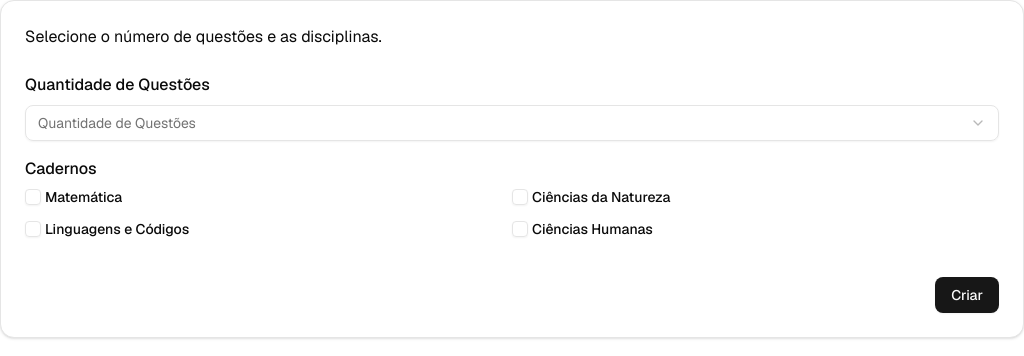
ChallengeForm › opens select options when clicked
This screenshot has width=1024, height=356.
Click the dropdown at (117, 123), box [25,105,999,141]
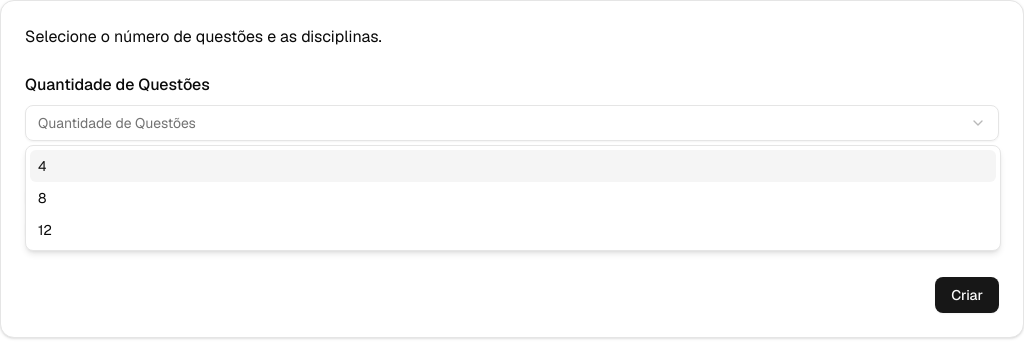
Expected: the list is shown, [25,145,1001,251]
Expected: the option "4" is shown, [30,150,996,182]
Expected: the option "8" is shown, [38,189,46,207]
